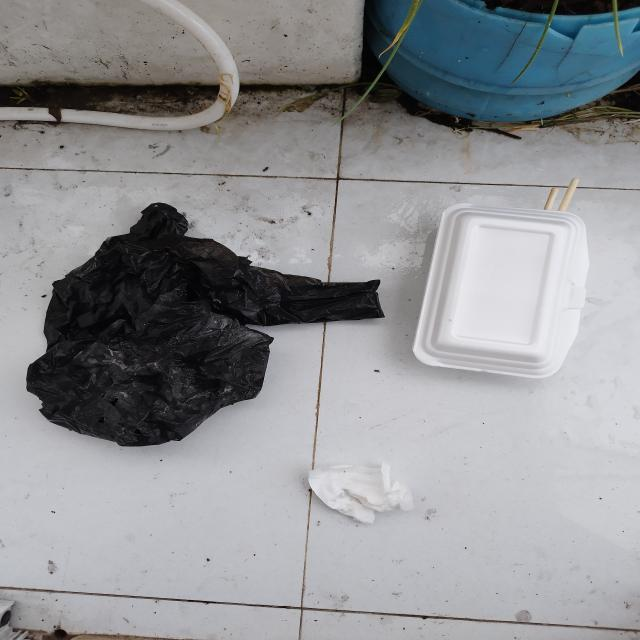bag: (24, 200, 392, 449)
foam box: (410, 200, 595, 381)
napkin: (302, 458, 418, 527)
